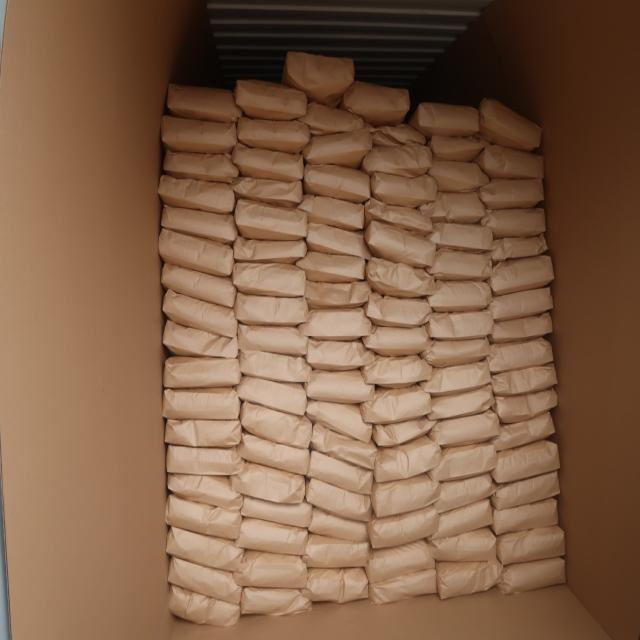gunny_bag: (285, 52, 357, 104), (476, 96, 542, 152), (165, 496, 244, 542), (157, 229, 234, 276), (168, 558, 243, 606), (240, 402, 316, 448), (166, 528, 245, 572), (364, 222, 437, 269), (367, 538, 438, 586), (162, 292, 236, 338), (159, 263, 236, 307), (230, 462, 308, 505), (236, 433, 312, 476), (373, 435, 441, 483), (370, 473, 440, 519), (311, 422, 378, 470), (168, 586, 240, 630), (340, 81, 410, 126), (492, 439, 562, 484), (232, 549, 310, 589), (368, 506, 438, 550), (156, 176, 234, 215), (234, 516, 310, 556), (235, 79, 309, 120), (494, 524, 566, 566), (159, 204, 236, 243), (306, 477, 374, 521), (308, 450, 376, 494), (166, 82, 242, 121), (166, 474, 244, 512), (234, 200, 308, 240), (366, 258, 438, 299), (305, 400, 375, 442), (160, 116, 237, 154), (360, 386, 433, 426), (162, 322, 238, 360), (236, 375, 308, 415), (303, 126, 375, 166), (427, 409, 500, 448), (491, 470, 562, 510), (428, 442, 498, 482), (438, 558, 504, 600), (233, 262, 310, 298), (498, 556, 566, 596), (431, 499, 494, 542), (492, 411, 558, 452), (299, 306, 376, 341), (432, 472, 496, 514), (232, 146, 306, 182), (238, 118, 312, 154), (490, 498, 560, 536), (370, 568, 440, 606), (162, 388, 242, 421), (489, 256, 555, 296), (162, 356, 242, 389), (363, 198, 434, 235), (306, 368, 378, 404), (368, 170, 438, 207), (306, 167, 374, 205), (303, 566, 370, 604), (167, 444, 246, 476), (474, 145, 544, 181), (295, 194, 365, 230), (408, 104, 478, 140), (420, 361, 492, 396), (236, 293, 310, 327), (238, 349, 314, 382), (307, 223, 373, 261), (162, 152, 240, 184), (236, 498, 314, 530), (429, 528, 497, 564), (428, 386, 496, 422), (302, 535, 371, 570), (164, 418, 244, 448), (487, 337, 555, 372), (237, 324, 310, 356), (361, 356, 434, 388), (364, 294, 432, 328), (307, 338, 377, 371), (296, 251, 366, 284), (362, 144, 432, 177), (494, 389, 558, 425), (301, 104, 368, 138), (490, 288, 556, 322), (362, 326, 432, 358), (420, 337, 490, 368), (242, 584, 314, 614), (234, 178, 306, 208), (479, 179, 546, 211), (491, 364, 558, 396), (425, 280, 492, 312), (421, 192, 488, 224), (308, 508, 369, 543), (426, 308, 494, 339), (235, 234, 310, 262), (427, 161, 490, 194), (426, 251, 493, 282), (372, 416, 436, 448), (490, 312, 556, 343), (426, 221, 494, 251), (304, 279, 372, 309), (481, 208, 547, 238), (488, 234, 548, 264), (428, 134, 489, 162), (372, 124, 428, 148)
